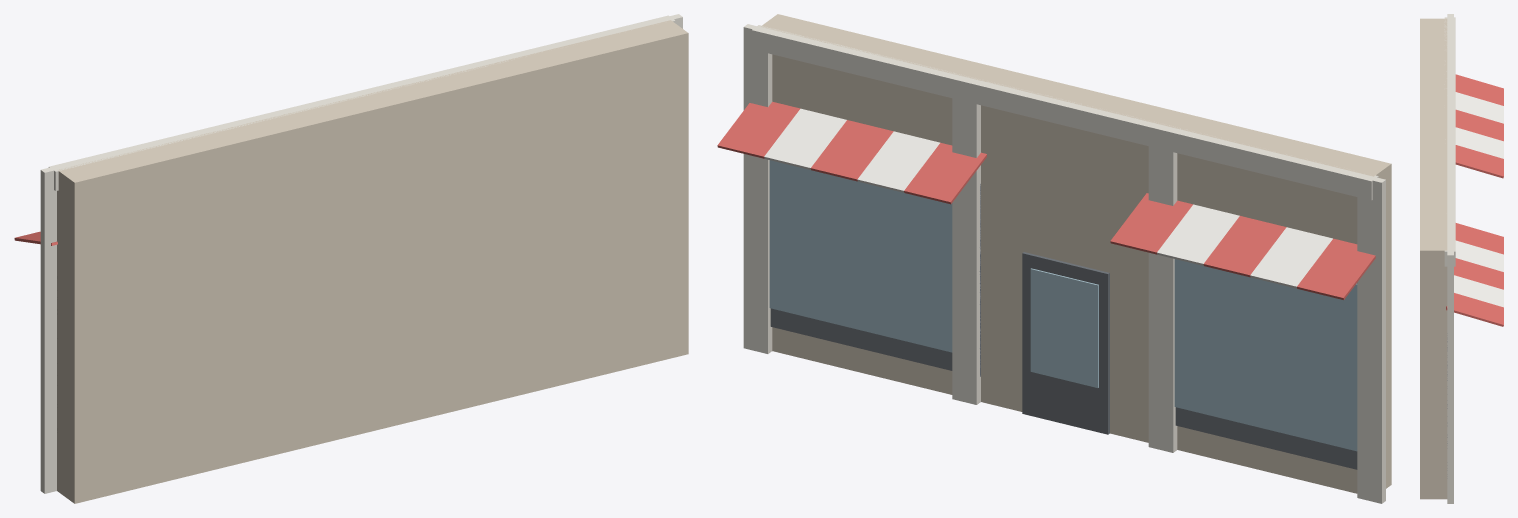
The model's file is facade_base.glb.
3 views of the same model, side by side, from view 1: azimuth 30°, elevation 25°; view 2: azimuth 150°, elevation 25°; view 3: azimuth 270°, elevation 25° (orthographic). The views are drawn at different scales.
Parts seen in each view (by area): view 1: body; view 2: body; view 3: body.
Part boxes in pixels (x1=…): body: x1=14, y1=14, x2=688, y2=503; body: x1=717, y1=14, x2=1391, y2=503; body: x1=1420, y1=14, x2=1503, y2=503.
Size of the model in its own units: 10.4 by 5 by 1.53.
